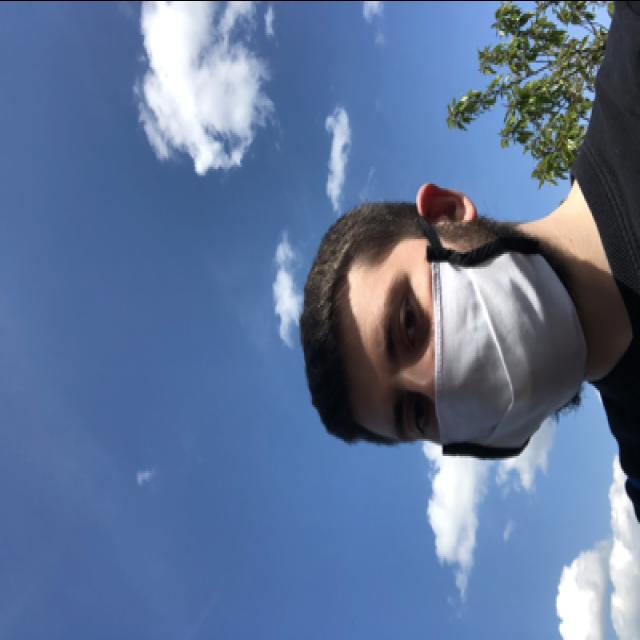with_mask: (367, 238, 588, 457)
